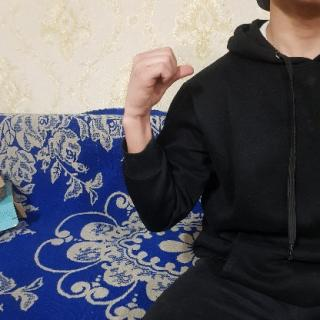WAW: (120, 41, 197, 124)
